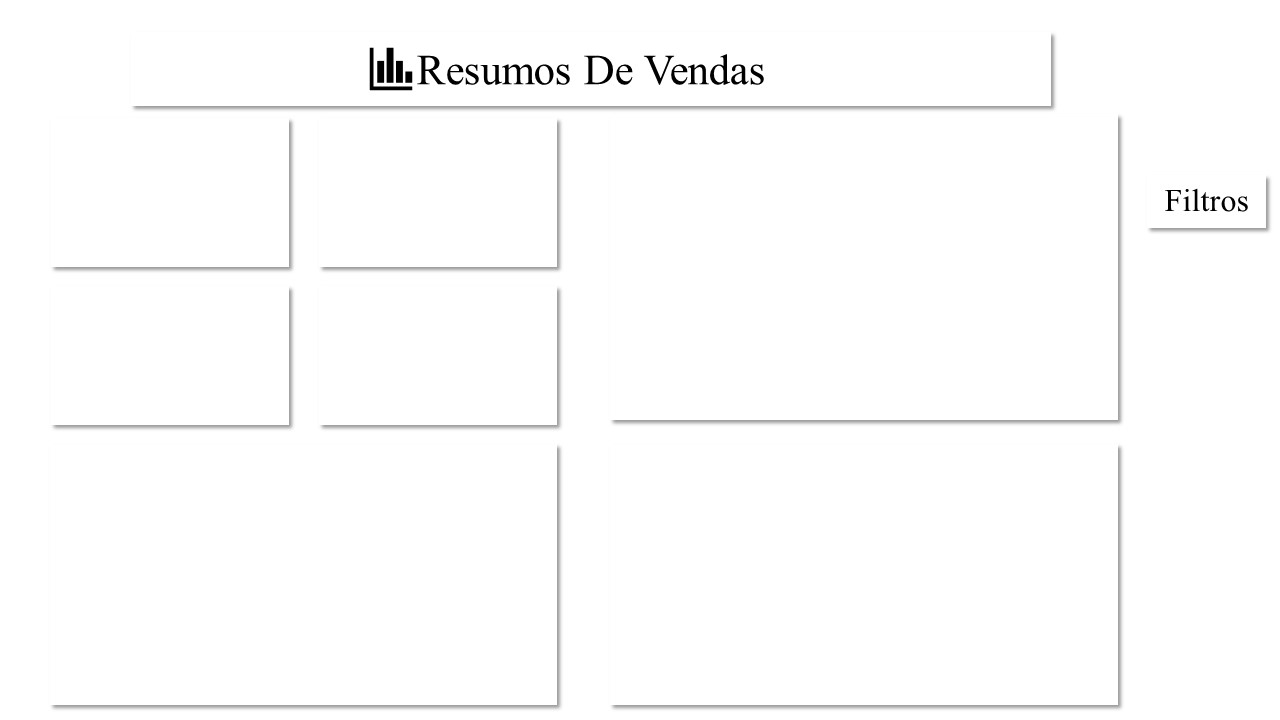

The page's visual inventory and layout, read from the dashboard file:
{"tool":"powerbi","page":{"name":"Página 1","canvas":[1280,720],"ordinal":0},"visuals":[{"type":"pivotTable","fields":{"Rows":["dimensaotempo.Ano"],"Values":["fatosvendas.TotalVendas"]},"box":[96.7,120.6,207.5,133.9],"z":0},{"type":"card","fields":{"Values":["fatosvendas.TicketVendaGeral"]},"box":[100.2,269.6,203.9,131.2],"z":1000},{"type":"textbox","box":[232.3,63.8,643.7,38.1],"z":2000},{"type":"card","fields":{"Values":["fatosvendas.TotalVendas"]},"box":[322.8,120.6,203.9,133.9],"z":3000},{"type":"lineClusteredColumnComboChart","fields":{"Y":["Sum(fatosvendas.ValorTotal)"],"Category":["dimensaovendedor.Vendedor"]},"box":[96.7,420.3,430,263.3],"z":4000},{"type":"lineChart","fields":{"Category":["dimensaotempo.Data.Variation.Hierarquia de datas.Mês"],"Y":["fatosvendas.TotalVendas"]},"box":[602.1,120.6,421.2,280.2],"z":5000},{"type":"slicer","fields":{"Values":["dimensaotempo.Ano"]},"box":[1093.3,161.4,141,93.1],"z":6000},{"type":"funnel","fields":{"Y":["fatosvendas.TotalVendas"],"Category":["dimensaotempo.Nome do Dia"]},"box":[602.1,420.3,421.2,263.3],"z":7000},{"type":"kpi","title":"Valor do ano referente ao total","fields":{"Goal":["fatosvendas.TotalGeral(ALL)"],"Indicator":["fatosvendas.TotalVendas"],"TrendLine":["dimensaotempo.Ano"]},"box":[322.8,269.6,203.9,131.2],"z":8000},{"type":"slicer","fields":{"Values":["dimensaotempo.Nome do Mês"]},"box":[1093.3,304.1,141,372.4],"z":9000},{"type":"actionButton","box":[0,0,100,40],"z":10000},{"type":"image","box":[415,61.2,51.4,40.8],"z":10001}]}

Visuals, with their boxes in screenshot pixels (x1, y1, x2, y2), scaled from the page's 1280x720 canvas onto the 1280x720 screenshot:
pivotTable - dimensaotempo.Ano x fatosvendas.TotalVendas: <box>97,121,304,254</box>
card - fatosvendas.TicketVendaGeral: <box>100,270,304,401</box>
textbox: <box>232,64,876,102</box>
card - fatosvendas.TotalVendas: <box>323,121,527,254</box>
lineClusteredColumnComboChart - Sum(fatosvendas.ValorTotal) x dimensaovendedor.Vendedor: <box>97,420,527,684</box>
lineChart - dimensaotempo.Data.Variation.Hierarquia de datas.Mês x fatosvendas.TotalVendas: <box>602,121,1023,401</box>
slicer - dimensaotempo.Ano: <box>1093,161,1234,254</box>
funnel - fatosvendas.TotalVendas x dimensaotempo.Nome do Dia: <box>602,420,1023,684</box>
"Valor do ano referente ao total" kpi: <box>323,270,527,401</box>
slicer - dimensaotempo.Nome do Mês: <box>1093,304,1234,676</box>
actionButton: <box>0,0,100,40</box>
image: <box>415,61,466,102</box>
